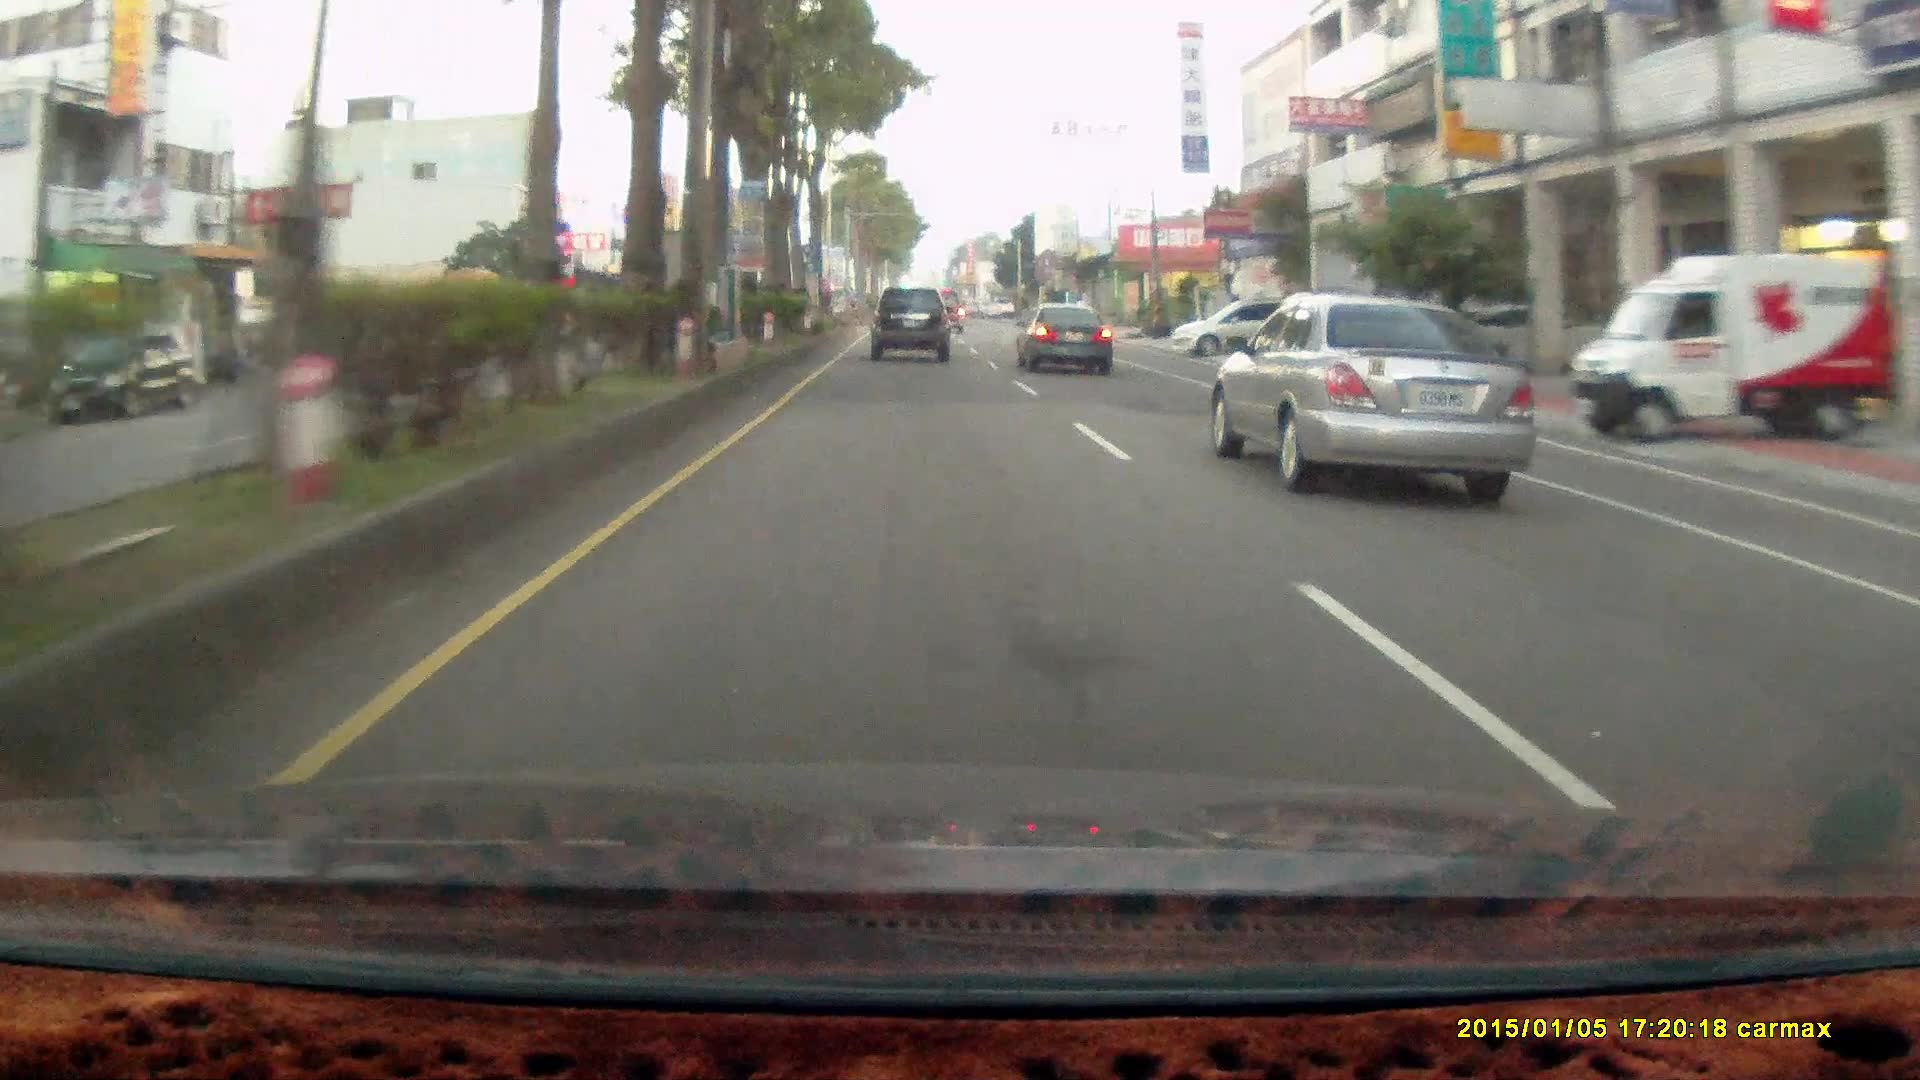vehicle: (1218, 290, 1545, 489), (1573, 251, 1903, 440), (1573, 251, 1896, 439), (41, 327, 208, 427), (47, 327, 196, 425), (1276, 285, 1407, 377), (1170, 302, 1323, 365), (1170, 301, 1323, 363), (1015, 301, 1118, 376), (1015, 301, 1113, 375), (872, 287, 953, 364), (868, 285, 949, 360)
